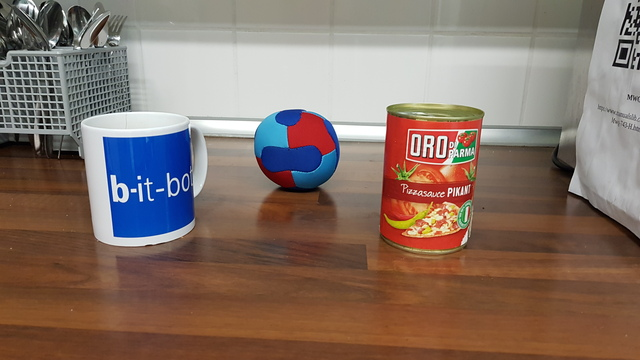005_tomato_soup_can: (379, 102, 486, 256)
025_mug: (73, 110, 209, 248)
057_racquetball: (252, 108, 342, 190)
